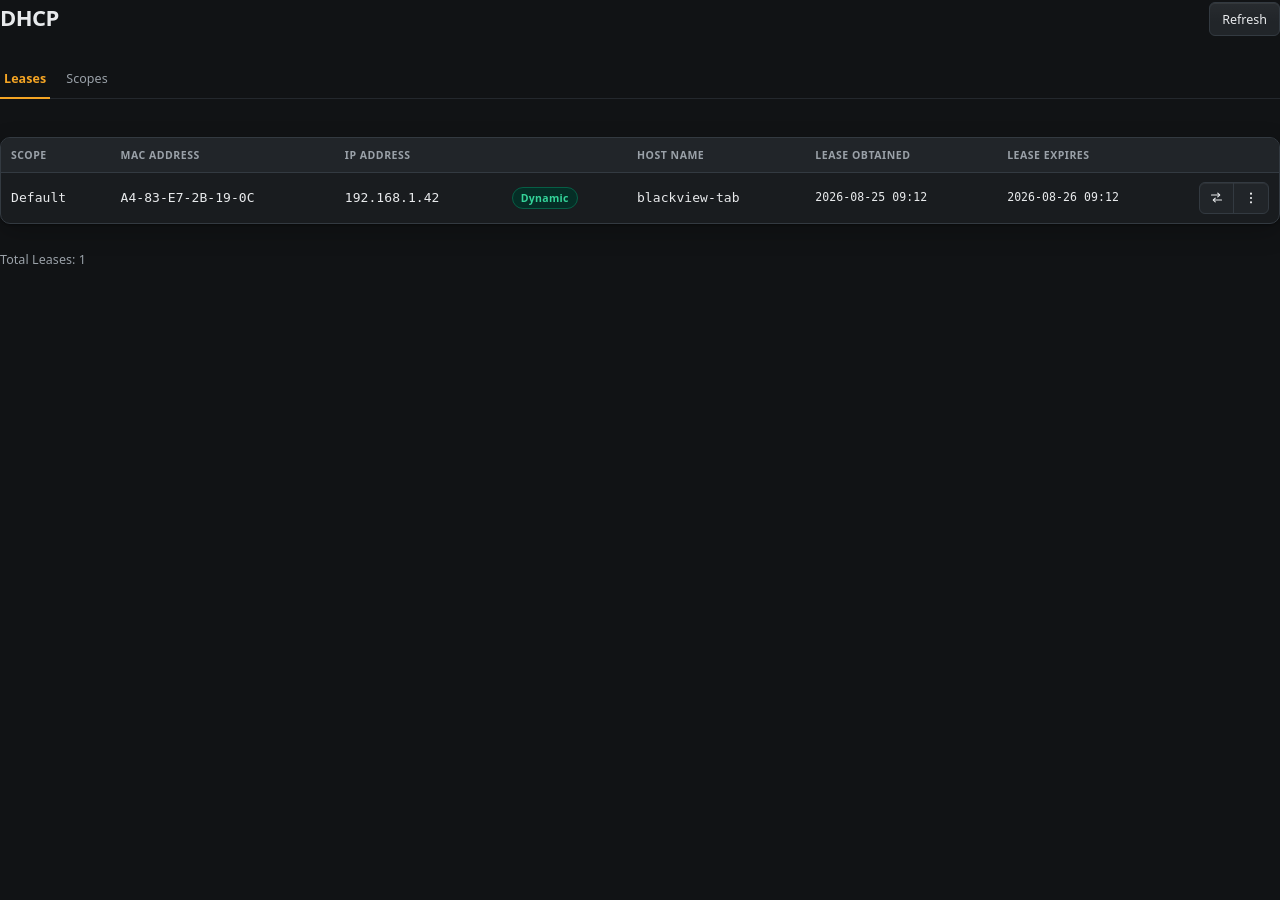
Test: DHCP › Leases › removing a lease opens the full modal and deletes it from the table
Expected: the text "192.168.1.42" is shown, [335,172,502,223]
Click the button named "Actions for " at point(1251, 198), box [1234,183,1268,213]
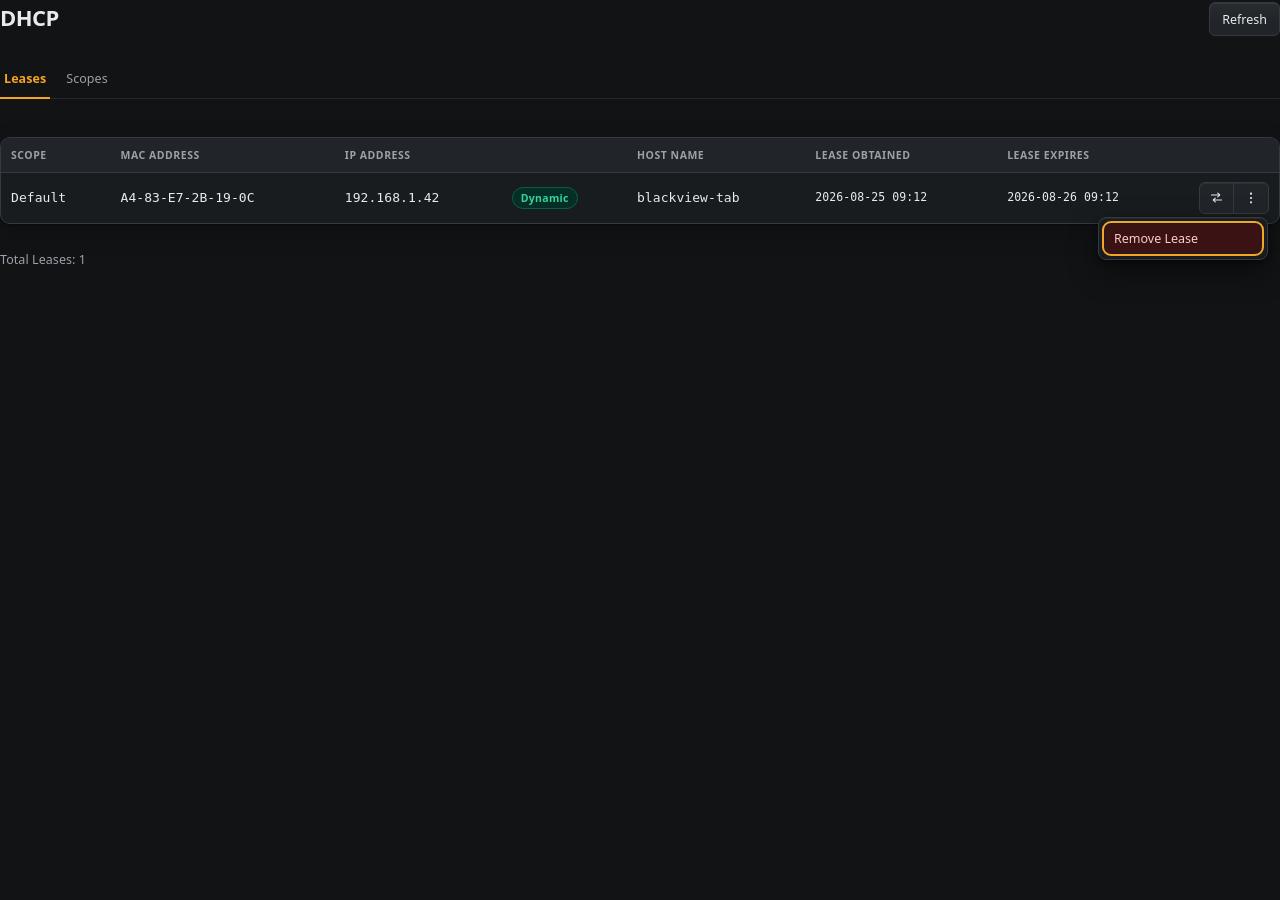
Click the menu item "Remove Lease" at point(1183, 238), box [1105,224,1261,253]
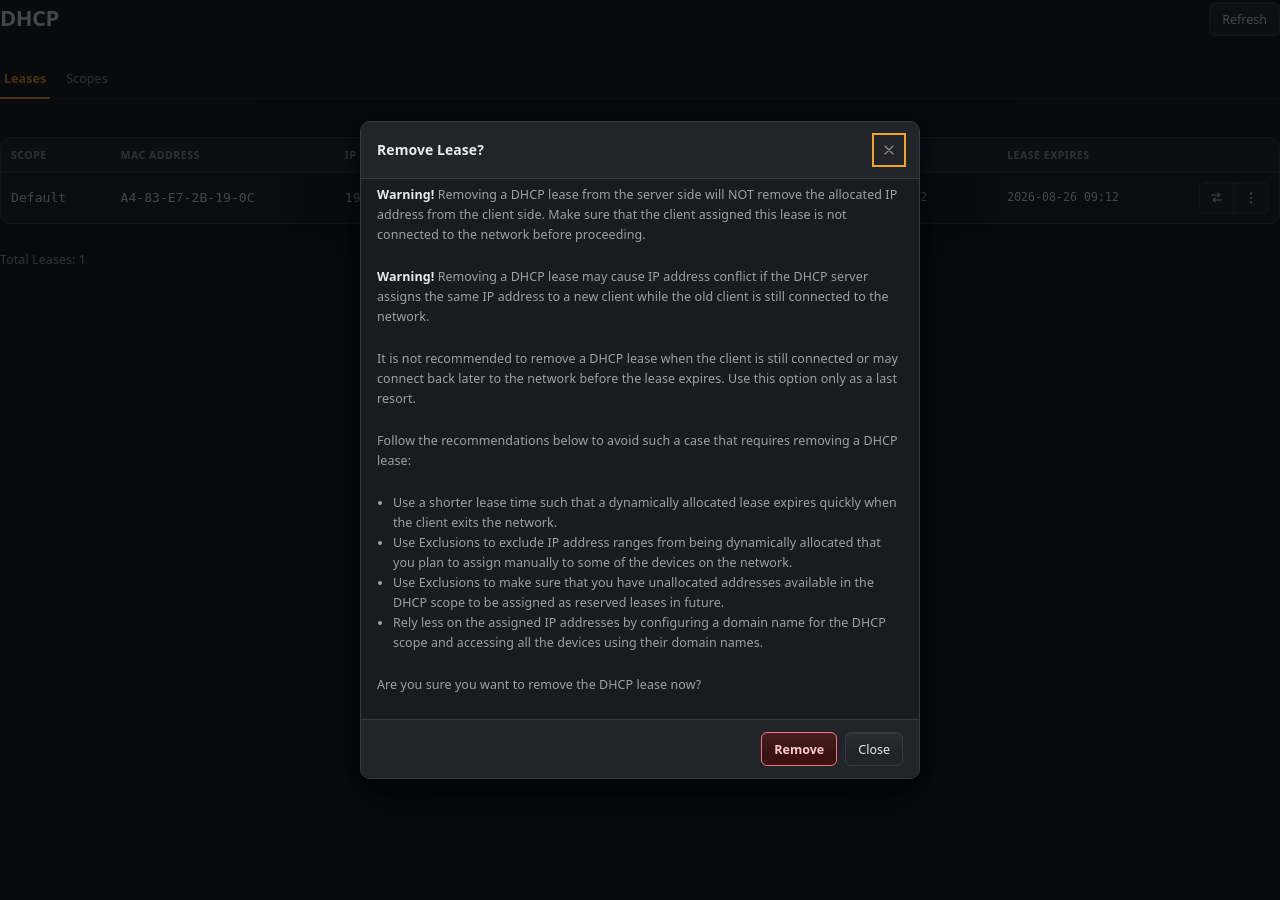
Expected: the heading "Remove Lease?" is shown, [377,139,484,161]
Expected: the text "Are you sure you want to remove the DHCP lease now?" is shown, [377,676,701,693]
Click the button "Remove" at point(799, 749), box [761,732,837,766]
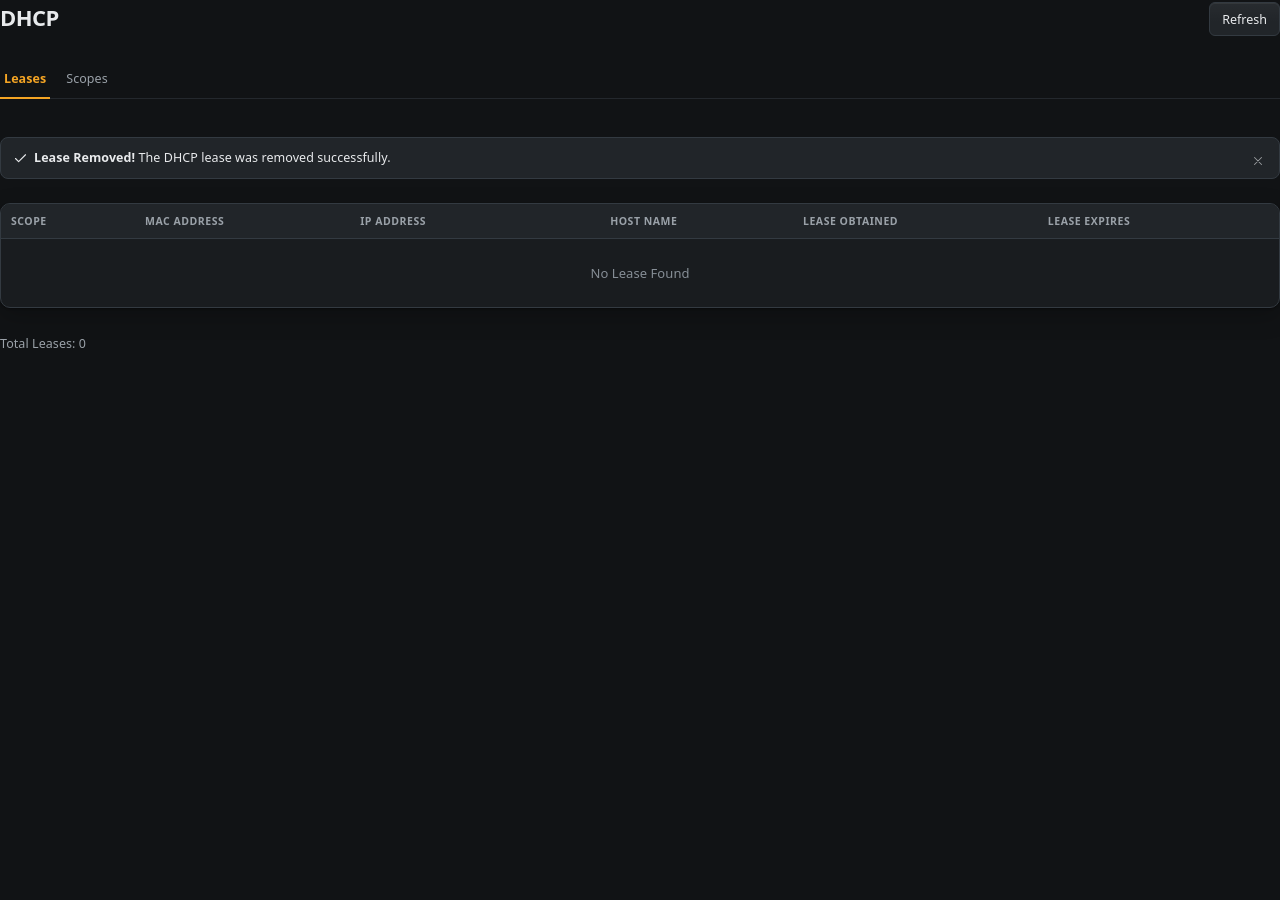
Expected: the text "Lease Removed!" is shown, [34,149,135,166]
Expected: the text "The DHCP lease was removed successfully." is shown, [138,149,391,166]
Expected: the text "No Lease Found" is shown, [1,238,1279,307]
